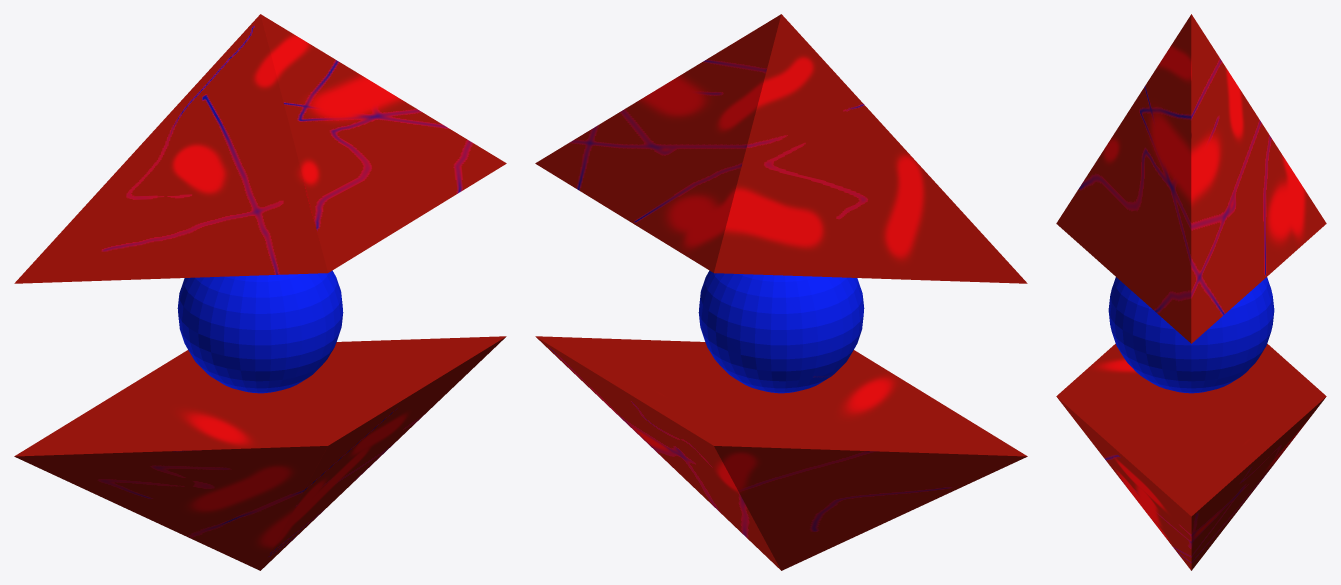
The model's file is enemyBody.obj.
The picture shows the model from 3 angles, left to right: view 1: azimuth 30°, elevation 25°; view 2: azimuth 150°, elevation 25°; view 3: azimuth 270°, elevation 25°; orthographic projection.
Parts seen in each view (by area): view 1: 体_立方体.005; view 2: 体_立方体.005; view 3: 体_立方体.005.
Part boxes in pixels (box(x1,y1,x2,y2)): 体_立方体.005: box(14, 14, 506, 570); 体_立方体.005: box(535, 14, 1027, 570); 体_立方体.005: box(1056, 14, 1326, 570).
Bounding box in the file's own units: 1.84 × 1.99 × 0.8742.
